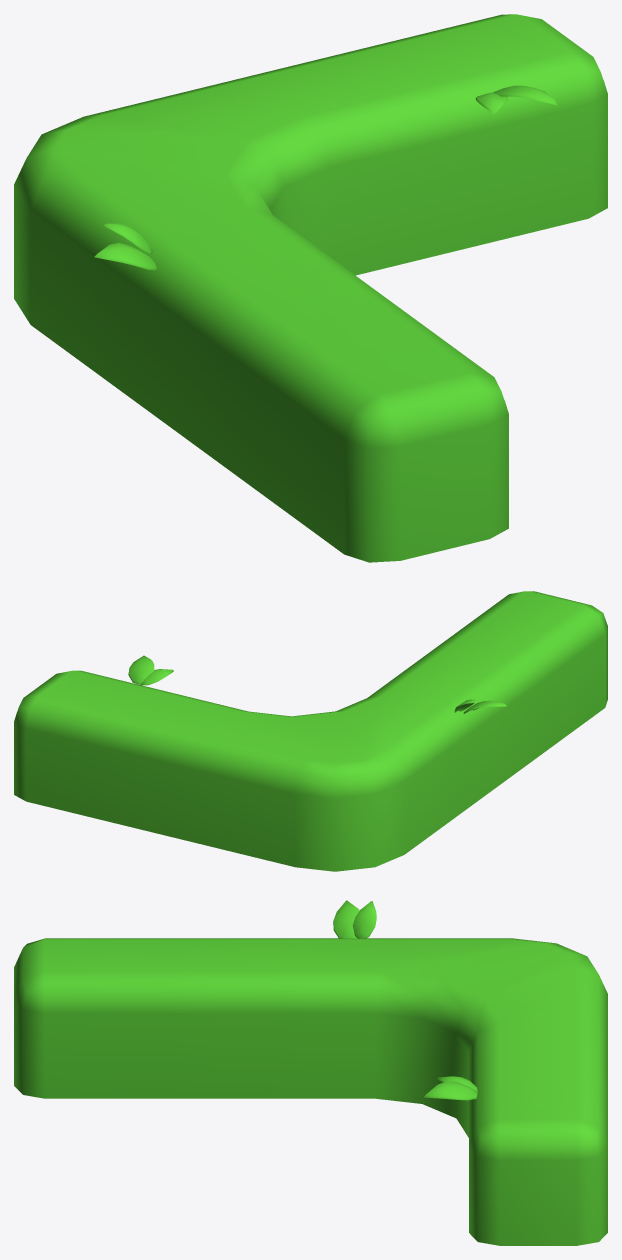
The model's file is L_Tree_Fence.fbx.
The picture shows the model from 3 angles, top to bottom: view 1: azimuth 30°, elevation 25°; view 2: azimuth 150°, elevation 25°; view 3: azimuth 270°, elevation 25°; orthographic projection. The views are drawn at different scales.
Visible parts, largest first — view 1: L_Tree_Fence; view 2: L_Tree_Fence; view 3: L_Tree_Fence.
Boxes of the visible parts, x1=… form: L_Tree_Fence: x1=14, y1=14, x2=607, y2=562; L_Tree_Fence: x1=14, y1=591, x2=607, y2=871; L_Tree_Fence: x1=14, y1=900, x2=607, y2=1245.
Size of the model in its own units: 418 by 115 by 469.
